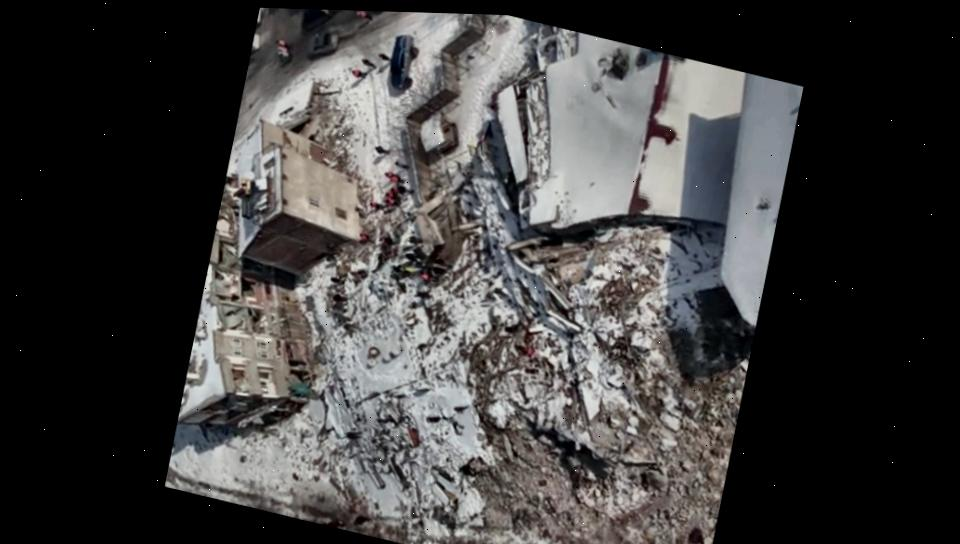kapali: (297, 491, 718, 544)
